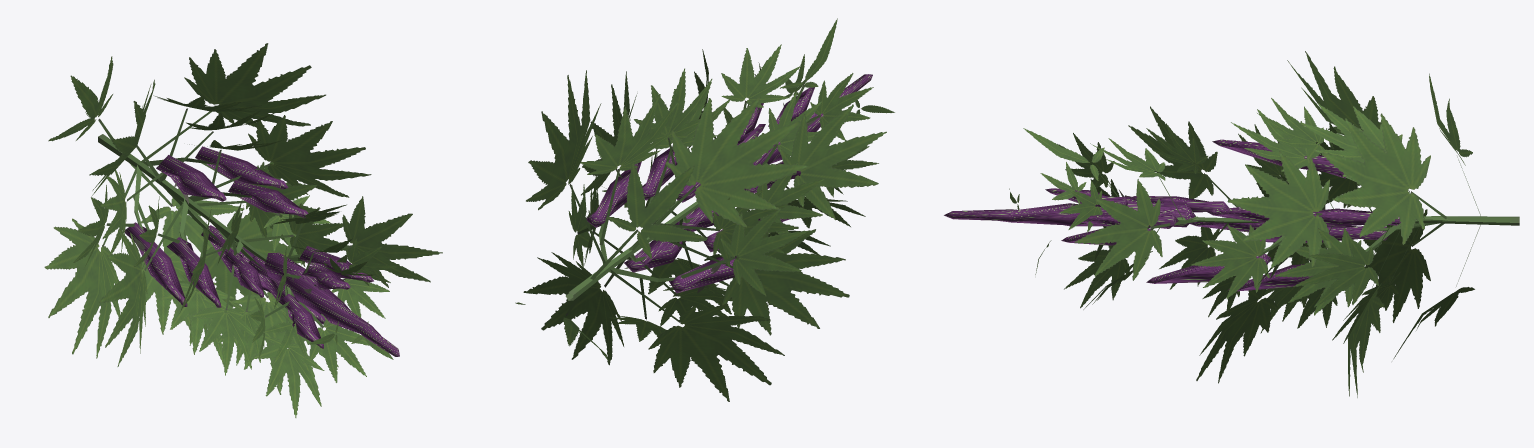
File: p_purple_haze_flowering_c0_cards.obj
3 renders of one model, left to right at view 1: azimuth 30°, elevation 25°; view 2: azimuth 150°, elevation 25°; view 3: azimuth 270°, elevation 25°, orthographic. The views are drawn at different scales.
Bounding box in the file's own units: 1.3 × 1.34 × 2.03.
Materials: 1 (1 with a texture image).
